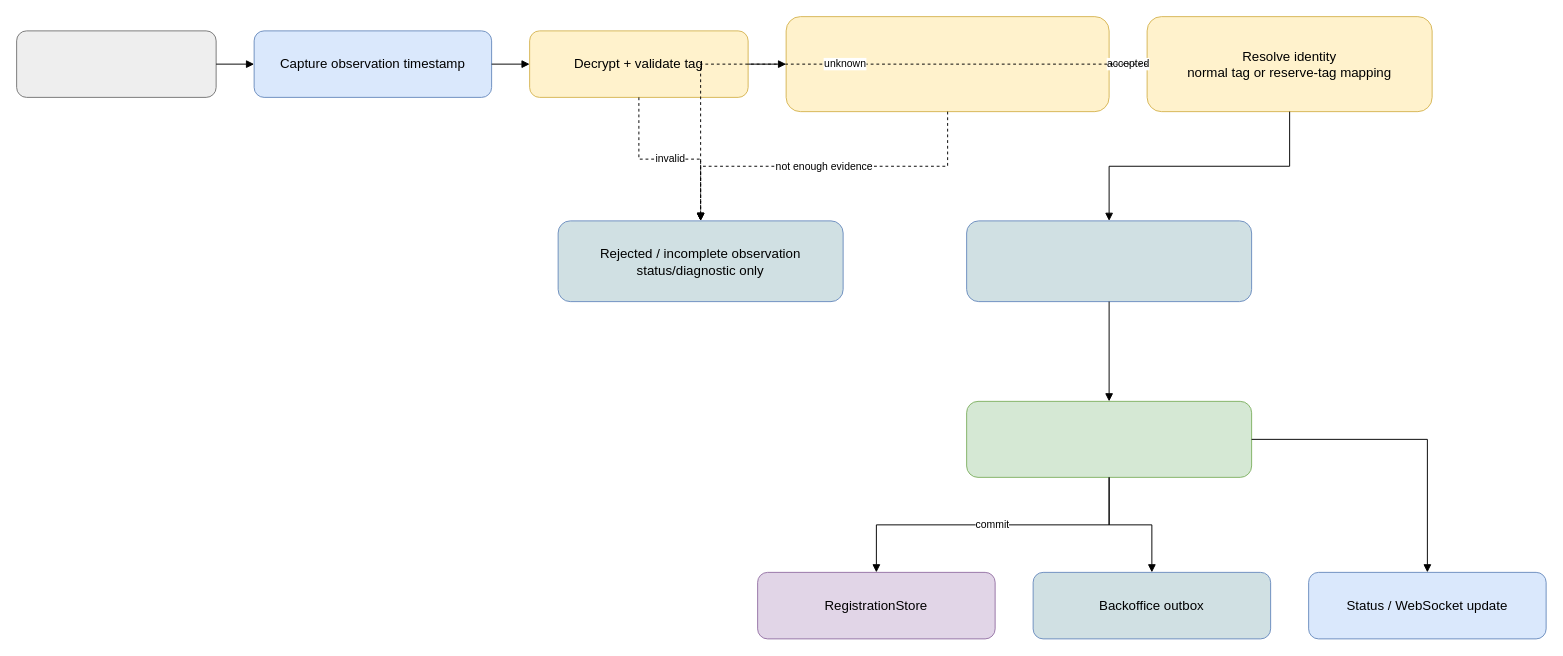
This 1563x656 diagram has some shape labels left out. Here are the shapes that lost their labels. From the top down, the centre of each, then its label:
At pixel 116 63: "RFID reader callback".
At pixel 947 64: "Accumulate / filter observations first read is not automatically accepted".
At pixel 1109 261: "AcceptedTag with evidence + observation time".
At pixel 1109 438: "Registration candidate".
